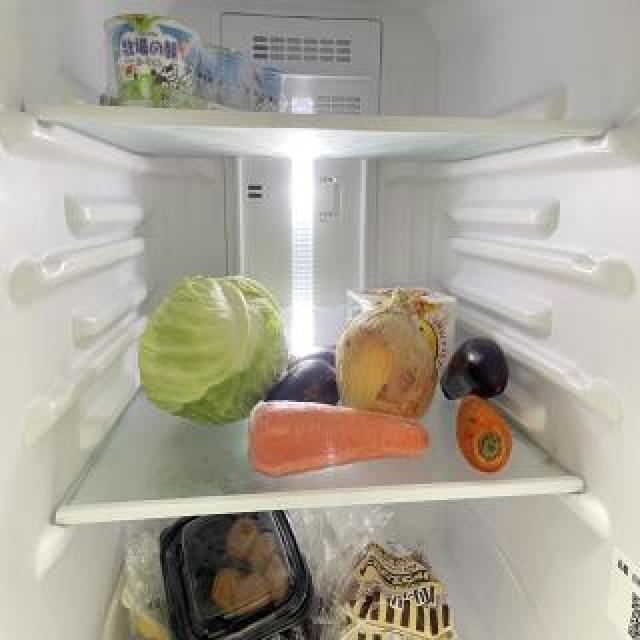cabbage: (141, 281, 288, 428)
carrot: (247, 399, 428, 477), (461, 395, 517, 473)
eggplant: (443, 335, 506, 405), (265, 357, 340, 410), (283, 345, 340, 381)
onion: (337, 293, 439, 430)
